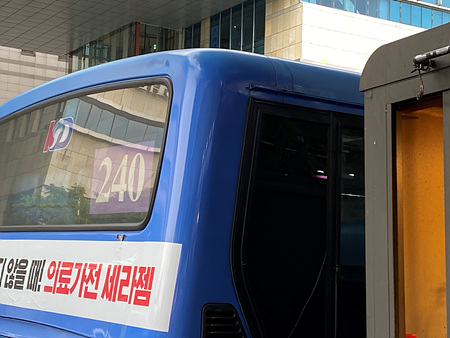bnum: (95, 150, 146, 206)
